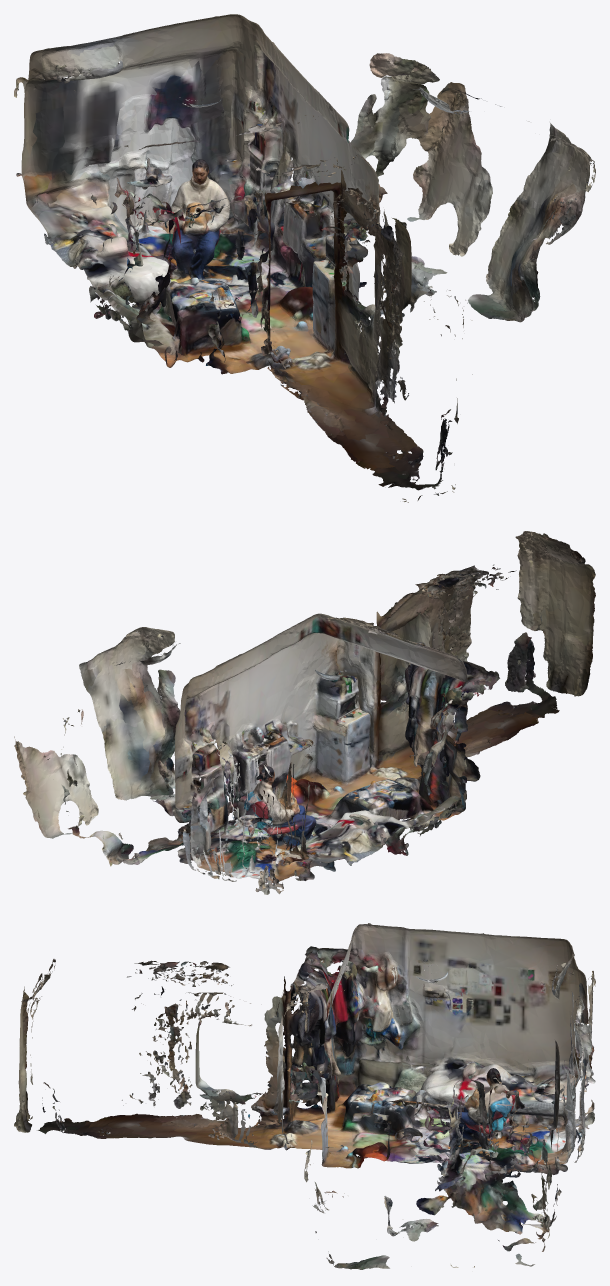
Rendered from MIMI WEB.glb.
3 views of the same model, one above another, from view 1: azimuth 30°, elevation 25°; view 2: azimuth 150°, elevation 25°; view 3: azimuth 270°, elevation 25° (orthographic). The views are drawn at different scales.
Visible parts, largest first — view 1: mesh; view 2: mesh; view 3: mesh.
Part boxes in pixels (x1,y1,x2,y2): mesh: [14, 14, 595, 502]; mesh: [14, 531, 595, 894]; mesh: [14, 923, 595, 1269].
Size of the model in its own units: 5.63 by 3 by 7.77.
Materials: 1 (1 with a texture image).
